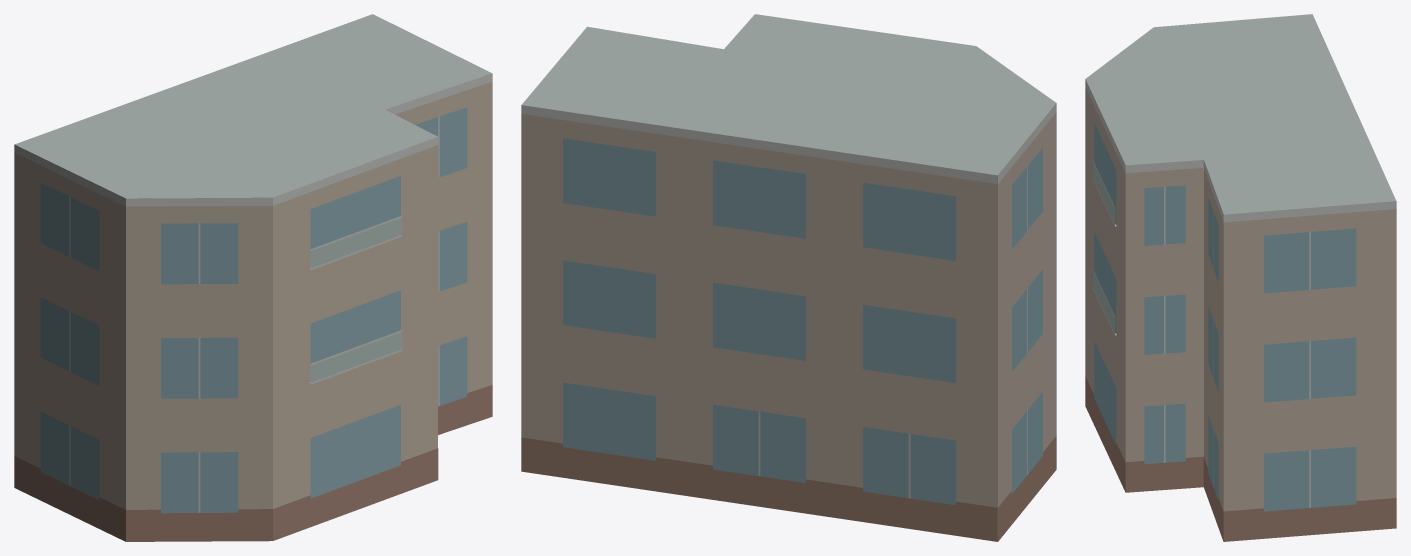
The model's file is survey-upis-32992304.glb.
3 renders of one model, left to right at view 1: azimuth 30°, elevation 25°; view 2: azimuth 150°, elevation 25°; view 3: azimuth 270°, elevation 25°, orthographic. The views are drawn at different scales.
Parts seen in each view (by area): view 1: survey-upis-32992304.tmp; view 2: survey-upis-32992304.tmp; view 3: survey-upis-32992304.tmp.
Boxes of the visible parts, left/top/right/bottom form: survey-upis-32992304.tmp: left=14, top=14, right=492, bottom=541; survey-upis-32992304.tmp: left=521, top=14, right=1056, bottom=541; survey-upis-32992304.tmp: left=1085, top=14, right=1396, bottom=541.
Bounding box in the file's own units: 13.42 × 10.2 × 8.8.
